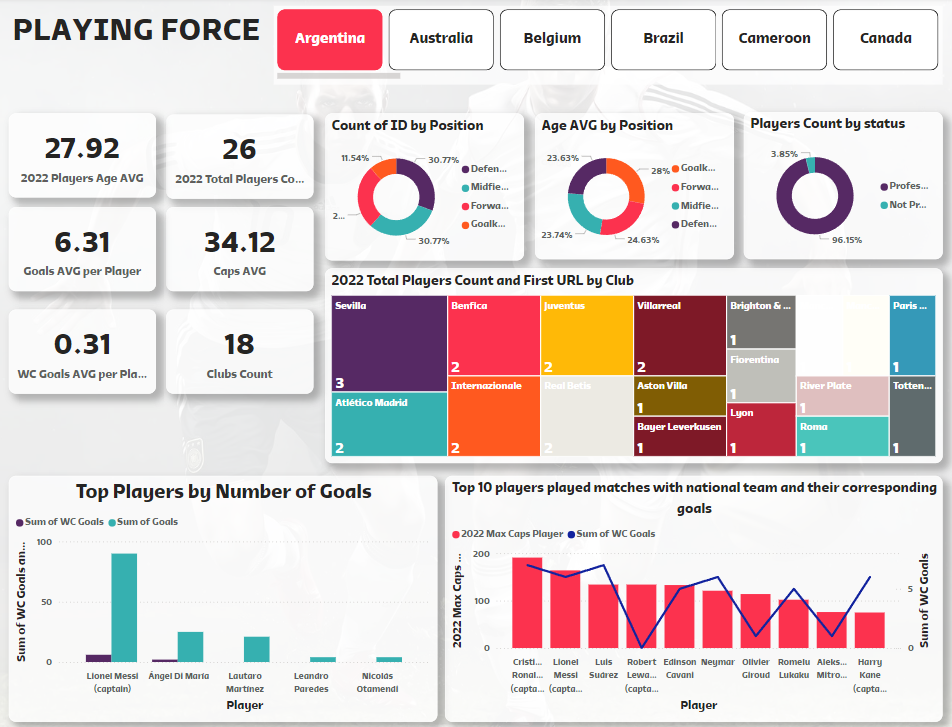

The dashboard page shown, as its layout file describes it:
{"tool":"powerbi","page":{"name":"Playing Force","canvas":[1300,1000],"ordinal":2},"visuals":[{"type":"clusteredColumnChart","title":"Top Players by Number of Goals","fields":{"Category":["2022_world_cup_squads.Player"],"Y":["2022_world_cup_squads.WC Goals","2022_world_cup_squads.Goals"]},"box":[18,650,582,334],"z":0},{"type":"donutChart","title":"Players Count by Position","fields":{"Category":["2022_world_cup_squads.Position"],"Y":["2022_world_cup_squads.ID"]},"box":[448,158,270,200],"z":1000},{"type":"donutChart","title":"Age AVG by Position","fields":{"Category":["2022_world_cup_squads.Position"],"Y":["measures_table.2022 Players Age AVG"]},"box":[733.8,157.5,270,198.8],"z":2000},{"type":"donutChart","title":"Players Count by status","fields":{"Category":["2022_world_cup_squads.Player Status"],"Y":["measures_table.2022 Total Players Count"]},"box":[1017.5,156.2,270,200],"z":3000},{"type":"card","fields":{"Values":["measures_table.2022 Total Players Count"]},"box":[232,160,200,114],"z":4000},{"type":"card","fields":{"Values":["measures_table.2022 Players Age AVG"]},"box":[18,158,200,114],"z":5000},{"type":"card","fields":{"Values":["measures_table.Caps AVG"]},"box":[232,286,200,114],"z":6000},{"type":"card","fields":{"Values":["measures_table.Goals AVG per Player"]},"box":[18,286,200,114],"z":7000},{"type":"card","fields":{"Values":["measures_table.WC Goals AVG per Player"]},"box":[18,424,200,114],"z":8000},{"type":"advancedSlicerVisual","fields":{"Values":["2022_world_cup_groups.Team"]},"box":[378.7,11.9,908.6,107],"z":9000},{"type":"textbox","box":[18.3,11.7,360,90],"z":10000},{"type":"treemap","fields":{"Group":["2022_world_cup_squads.Club"],"Values":["measures_table.2022 Total Players Count"]},"box":[448.4,368.5,839,264.9],"z":11000},{"type":"lineStackedColumnComboChart","title":"Top 10 players played matches with national team and their corresponding  goals","fields":{"Category":["2022_world_cup_squads.Player"],"Y":["measures_table.2022 Max Caps Player"],"Y2":["2022_world_cup_squads.WC Goals"]},"box":[612,650,676,334],"z":12000},{"type":"card","fields":{"Values":["measures_table.Clubs Count"]},"box":[232,424,200,114],"z":13000}]}

Visuals, with their boxes in screenshot pixels (x1, y1, x2, y2), scaled from the page's 1300x1000 canvas onto the 952x727 screenshot:
"Top Players by Number of Goals" clusteredColumnChart: l=13, t=473, r=439, b=715
"Players Count by Position" donutChart: l=328, t=115, r=526, b=260
"Age AVG by Position" donutChart: l=537, t=115, r=735, b=259
"Players Count by status" donutChart: l=745, t=114, r=943, b=259
card - measures_table.2022 Total Players Count: l=170, t=116, r=316, b=199
card - measures_table.2022 Players Age AVG: l=13, t=115, r=160, b=198
card - measures_table.Caps AVG: l=170, t=208, r=316, b=291
card - measures_table.Goals AVG per Player: l=13, t=208, r=160, b=291
card - measures_table.WC Goals AVG per Player: l=13, t=308, r=160, b=391
advancedSlicerVisual - 2022_world_cup_groups.Team: l=277, t=9, r=943, b=86
textbox: l=13, t=9, r=277, b=74
treemap - 2022_world_cup_squads.Club x measures_table.2022 Total Players Count: l=328, t=268, r=943, b=460
"Top 10 players played matches with national team and their corresponding  goals" lineStackedColumnComboChart: l=448, t=473, r=943, b=715
card - measures_table.Clubs Count: l=170, t=308, r=316, b=391
